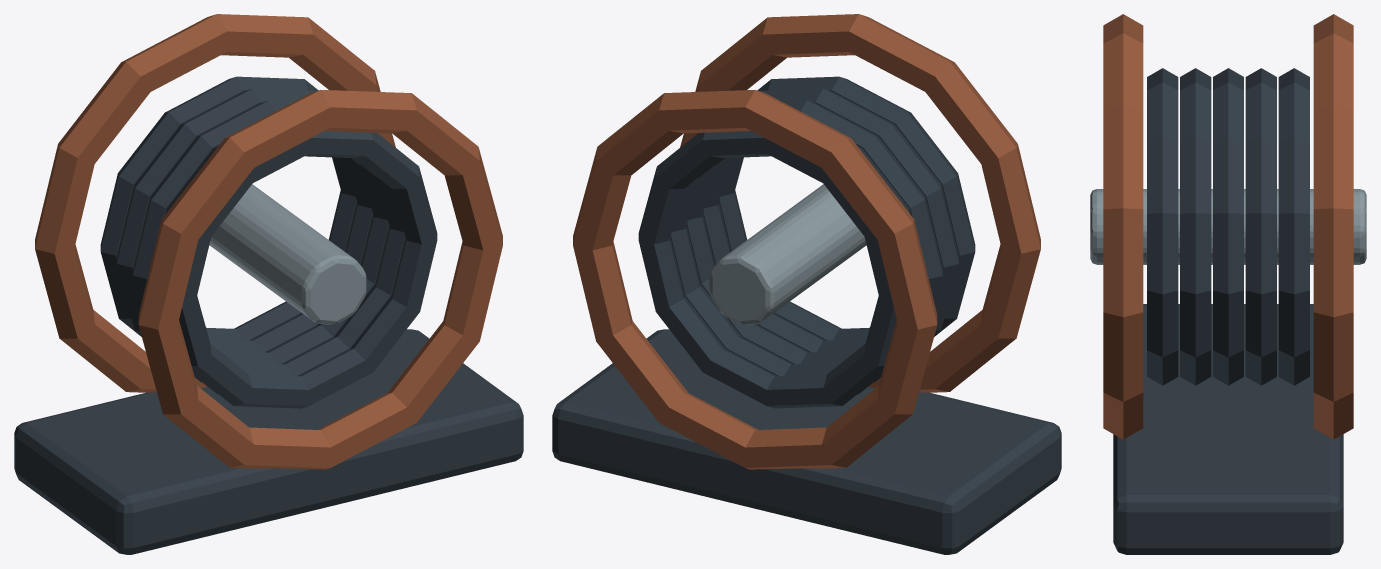
File: Cable-Coil.glb
3 renders of one model, left to right at view 1: azimuth 30°, elevation 25°; view 2: azimuth 150°, elevation 25°; view 3: azimuth 270°, elevation 25°, orthographic.
Visible parts, largest first — view 1: CableCoil_Base, CableCoil_Flange, CableCoil_Flange.001, CableCoil_Loop, CableCoil_Axle, CableCoil_Loop.004, CableCoil_Loop.003, CableCoil_Loop.002, CableCoil_Loop.001; view 2: CableCoil_Base, CableCoil_Flange.001, CableCoil_Flange, CableCoil_Loop.004, CableCoil_Axle, CableCoil_Loop, CableCoil_Loop.001, CableCoil_Loop.002, CableCoil_Loop.003; view 3: CableCoil_Base, CableCoil_Flange, CableCoil_Flange.001, CableCoil_Loop, CableCoil_Loop.004, CableCoil_Loop.001, CableCoil_Loop.003, CableCoil_Loop.002, CableCoil_Axle.
Boxes of the visible parts, x1=… form: CableCoil_Base: x1=14, y1=329, x2=523, y2=554; CableCoil_Flange: x1=138, y1=90, x2=502, y2=469; CableCoil_Flange.001: x1=35, y1=14, x2=395, y2=392; CableCoil_Loop: x1=179, y1=131, x2=437, y2=408; CableCoil_Axle: x1=209, y1=184, x2=366, y2=324; CableCoil_Loop.004: x1=100, y1=76, x2=356, y2=340; CableCoil_Loop.003: x1=117, y1=88, x2=372, y2=352; CableCoil_Loop.002: x1=133, y1=100, x2=389, y2=382; CableCoil_Loop.001: x1=165, y1=145, x2=405, y2=394; CableCoil_Base: x1=552, y1=329, x2=1061, y2=554; CableCoil_Flange.001: x1=573, y1=90, x2=937, y2=469; CableCoil_Flange: x1=680, y1=14, x2=1040, y2=392; CableCoil_Loop.004: x1=638, y1=131, x2=896, y2=408; CableCoil_Axle: x1=709, y1=184, x2=866, y2=324; CableCoil_Loop: x1=719, y1=76, x2=975, y2=340; CableCoil_Loop.001: x1=703, y1=88, x2=958, y2=352; CableCoil_Loop.002: x1=686, y1=100, x2=942, y2=382; CableCoil_Loop.003: x1=670, y1=145, x2=910, y2=394; CableCoil_Base: x1=1113, y1=304, x2=1343, y2=554; CableCoil_Flange: x1=1103, y1=14, x2=1143, y2=439; CableCoil_Flange.001: x1=1313, y1=14, x2=1353, y2=439; CableCoil_Loop: x1=1147, y1=68, x2=1178, y2=385; CableCoil_Loop.004: x1=1278, y1=68, x2=1309, y2=385; CableCoil_Loop.001: x1=1180, y1=68, x2=1211, y2=385; CableCoil_Loop.003: x1=1245, y1=68, x2=1276, y2=385; CableCoil_Loop.002: x1=1213, y1=68, x2=1243, y2=385; CableCoil_Axle: x1=1090, y1=189, x2=1366, y2=264.
Bounding box in the file's own units: 1.45 × 1.43 × 0.84.
